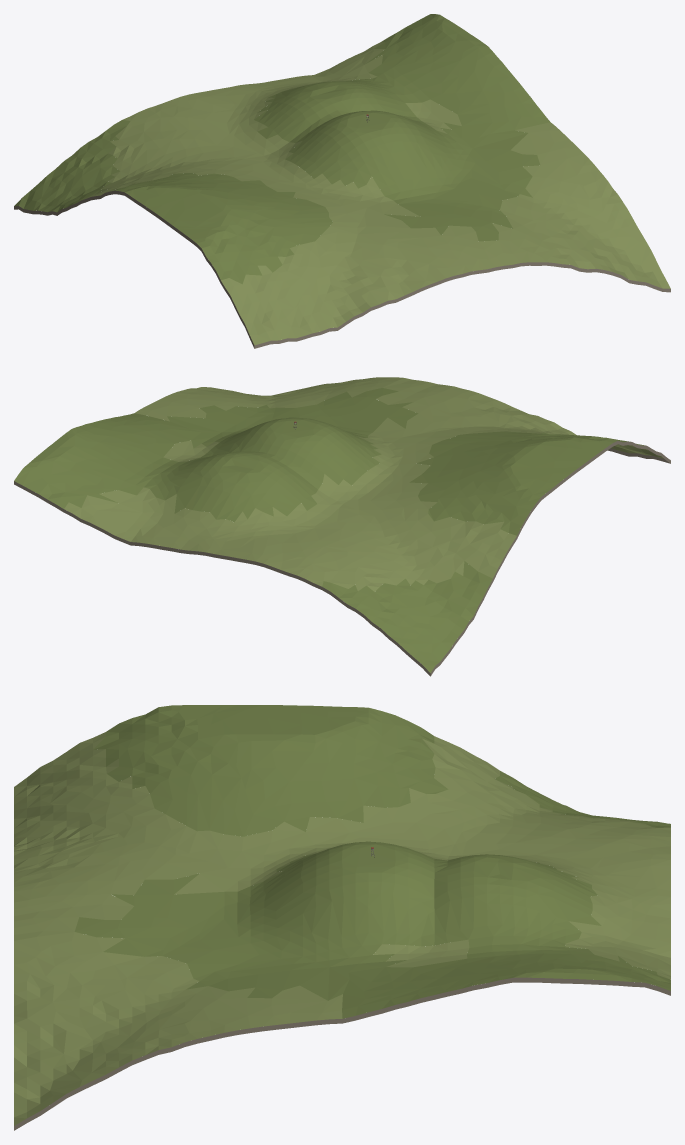
File: parca_+6_-6-uzak.glb
The picture shows the model from 3 angles, top to bottom: view 1: azimuth 30°, elevation 25°; view 2: azimuth 150°, elevation 25°; view 3: azimuth 270°, elevation 25°; orthographic projection. The views are drawn at different scales.
Parts seen in each view (by area): view 1: parca_+6_-6_arazi_uzak; view 2: parca_+6_-6_arazi_uzak; view 3: parca_+6_-6_arazi_uzak.
Part boxes in pixels (x1,y1,x2,y2): parca_+6_-6_arazi_uzak: (14,14,670,348); parca_+6_-6_arazi_uzak: (14,377,670,676); parca_+6_-6_arazi_uzak: (14,705,670,1130).
Bounding box in the file's own units: 1000 × 284 × 1000.
